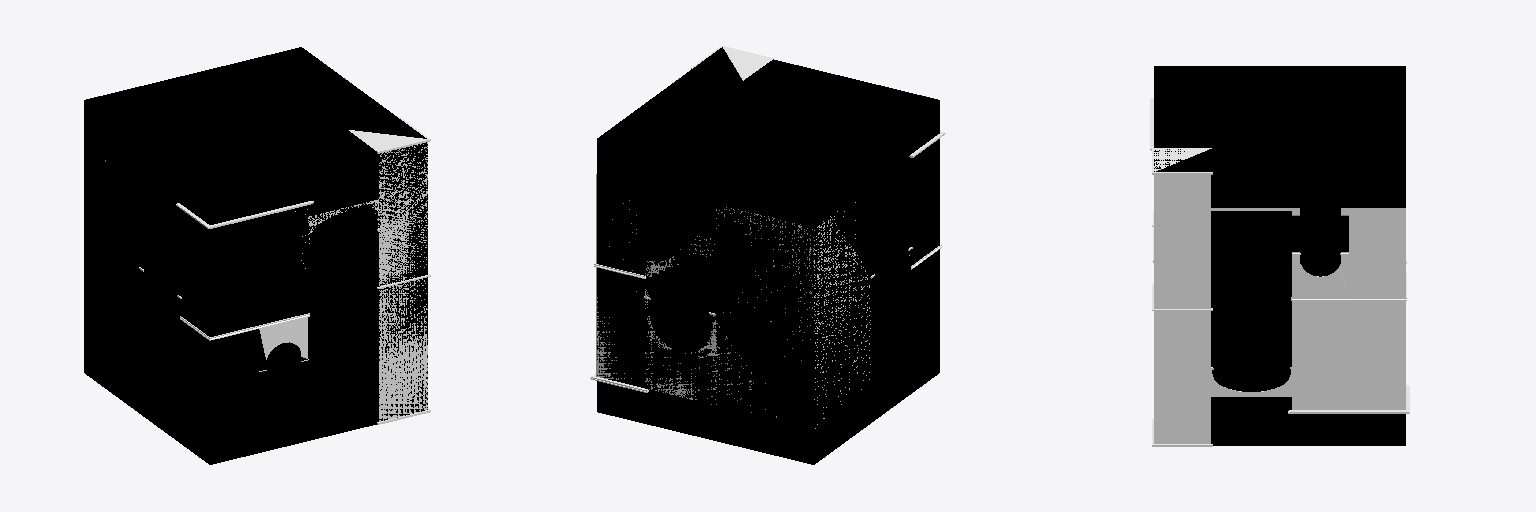
File: escher2010.obj
3 renders of one model, left to right at view 1: azimuth 30°, elevation 25°; view 2: azimuth 150°, elevation 25°; view 3: azimuth 270°, elevation 25°, orthographic.
Visible parts, largest first — view 1: reflectiveCube, pasted__stroekSimenEscher2010 stroekSimenEscher2011 pasted__side, pasted__stroekSimenEscher2010 stroekSimenEscher2011 pasted__main; view 2: reflectiveCube, pasted__stroekSimenEscher2010 stroekSimenEscher2011 pasted__main, pasted__middleStructureLeft1 pasted__middleStructures pasted__st, pasted__stroekSimenEscher2010 stroekSimenEscher2011 pasted__side; view 3: reflectiveCube, pasted__stroekSimenEscher2010 stroekSimenEscher2011 pasted__main, pasted__stroekSimenEscher2010 stroekSimenEscher2011 pasted__side.
Boxes of the visible parts, <box> form: reflectiveCube: <box>84,47,427,464</box>; pasted__stroekSimenEscher2010 stroekSimenEscher2011 pasted__side: <box>349,117,430,424</box>; pasted__stroekSimenEscher2010 stroekSimenEscher2011 pasted__main: <box>139,199,379,371</box>; reflectiveCube: <box>597,47,939,464</box>; pasted__stroekSimenEscher2010 stroekSimenEscher2011 pasted__main: <box>590,131,945,404</box>; pasted__middleStructureLeft1 pasted__middleStructures pasted__st: <box>814,202,870,428</box>; pasted__stroekSimenEscher2010 stroekSimenEscher2011 pasted__side: <box>691,46,773,80</box>; reflectiveCube: <box>1154,66,1405,445</box>; pasted__stroekSimenEscher2010 stroekSimenEscher2011 pasted__main: <box>1150,98,1409,413</box>; pasted__stroekSimenEscher2010 stroekSimenEscher2011 pasted__side: <box>1152,148,1212,446</box>.
Size of the model in its own units: 32.07 by 37.12 by 32.07.